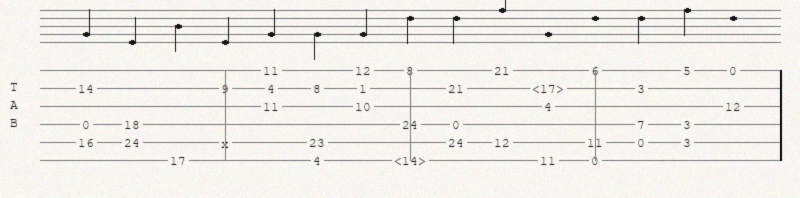0: (82, 118, 94, 130), (452, 118, 464, 130), (591, 154, 603, 166), (637, 136, 649, 148), (729, 64, 741, 76)
1: (359, 82, 371, 94)
10: (355, 100, 375, 112)
11: (263, 100, 283, 112), (263, 64, 283, 76), (540, 154, 560, 166), (587, 136, 607, 148)
12: (355, 64, 375, 76), (494, 136, 514, 148), (725, 100, 745, 112)
14: (78, 82, 98, 94)
16: (78, 136, 98, 148)
17: (170, 154, 190, 166)
18: (124, 118, 144, 130)
21: (448, 82, 468, 94), (494, 64, 514, 76)
23: (309, 136, 329, 148)
24: (124, 136, 144, 148), (402, 118, 422, 130), (448, 136, 468, 148)
3: (637, 82, 649, 94), (683, 118, 695, 130), (683, 136, 695, 148)
4: (267, 82, 279, 94), (313, 154, 325, 166), (544, 100, 556, 112)
5: (683, 64, 695, 76)
6: (591, 64, 603, 76)
7: (637, 118, 649, 130)
8: (313, 82, 325, 94), (406, 64, 418, 76)
9: (221, 82, 233, 94)
harmonic: (394, 154, 430, 167), (532, 82, 568, 95)
x: (221, 137, 233, 147)
